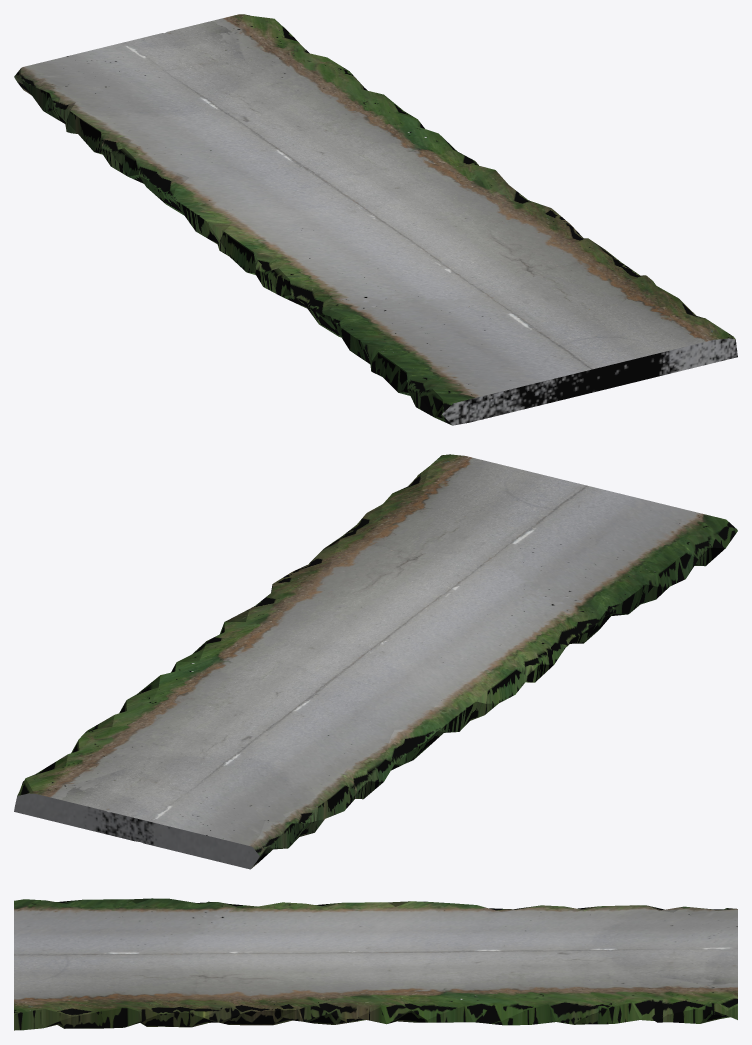
File: asphaltroad-1-3.fbx
The picture shows the model from 3 angles, top to bottom: view 1: azimuth 30°, elevation 25°; view 2: azimuth 150°, elevation 25°; view 3: azimuth 270°, elevation 25°; orthographic projection. The views are drawn at different scales.
Visible parts, largest first — view 1: texturedMesh.004; view 2: texturedMesh.004; view 3: texturedMesh.004.
Boxes of the visible parts, <box> form: texturedMesh.004: <box>14,14,737,425</box>; texturedMesh.004: <box>14,454,737,869</box>; texturedMesh.004: <box>14,898,737,1030</box>.
Size of the model in its own units: 1089 by 81.6 by 2881.
1 material, 1 textured.
